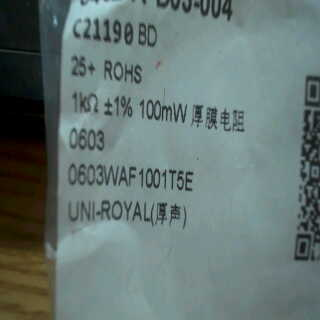1kR: (70, 91, 104, 114)
